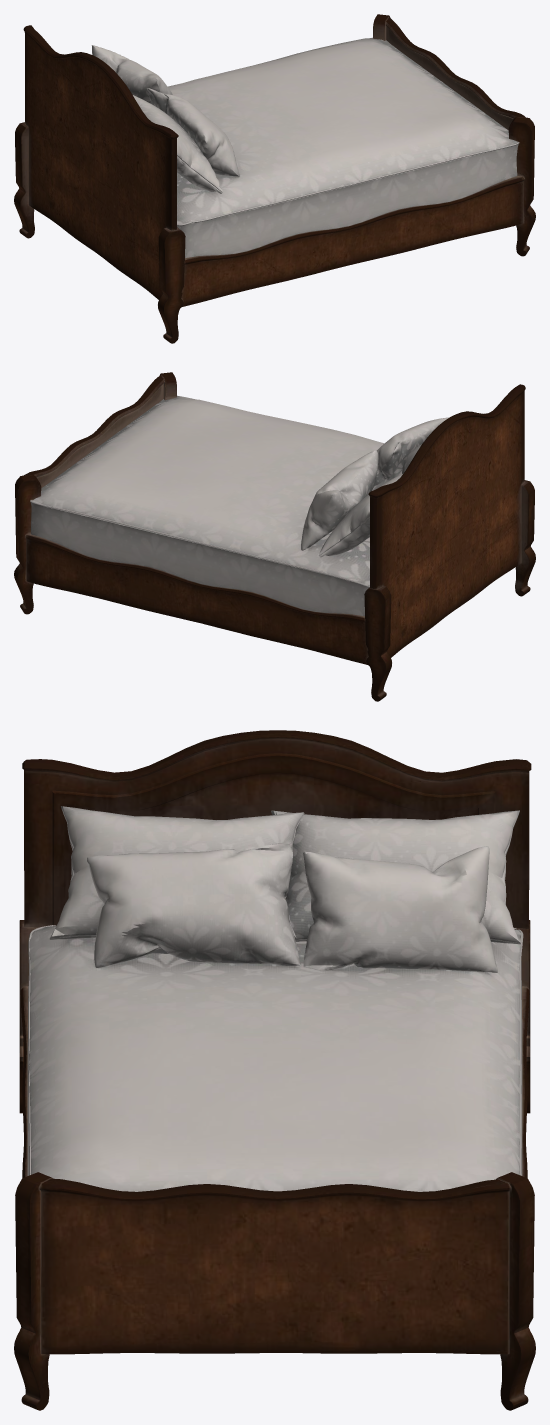
The model's file is bed-victorian-carved.glb.
3 views of the same model, one above another, from view 1: azimuth 30°, elevation 25°; view 2: azimuth 150°, elevation 25°; view 3: azimuth 270°, elevation 25° (orthographic). The views are drawn at different scales.
Parts seen in each view (by area): view 1: bed-victorian-carved; view 2: bed-victorian-carved; view 3: bed-victorian-carved.
Part boxes in pixels (bbox=[...]): bed-victorian-carved: bbox=[14, 14, 535, 343]; bed-victorian-carved: bbox=[14, 372, 535, 701]; bed-victorian-carved: bbox=[14, 730, 535, 1410].
Bounding box in the file's own units: 2.05 × 1.18 × 1.45.
3 materials, 3 textured.
